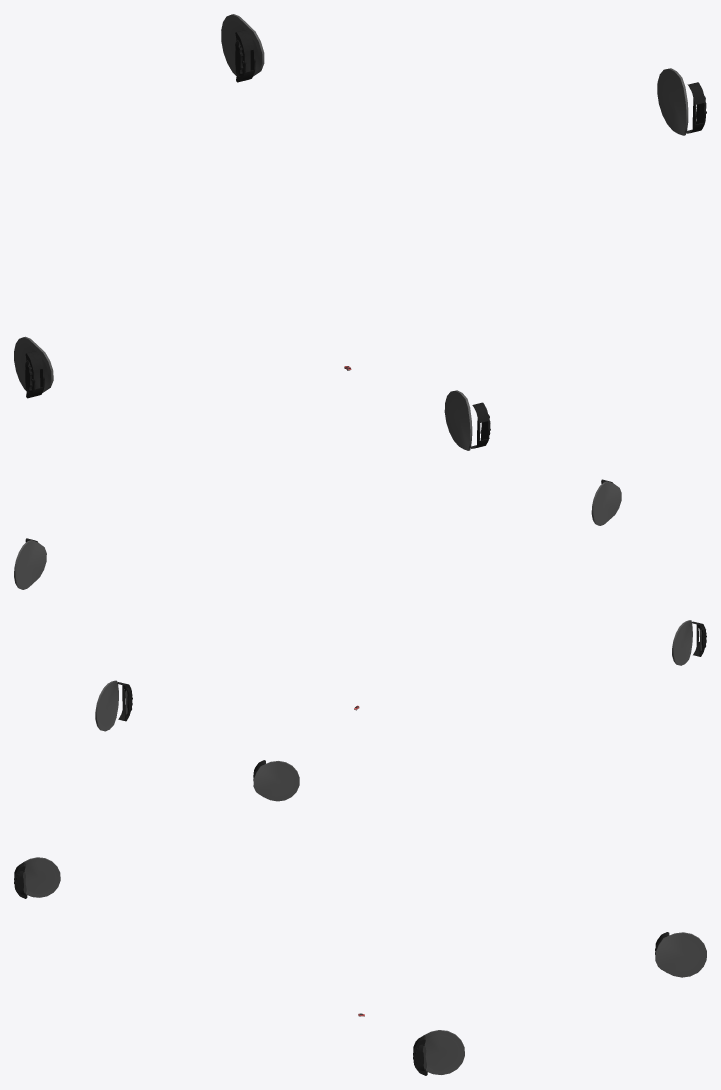
Rendered from traffic_crossover.glb.
3 renders of one model, top to bottom at view 1: azimuth 30°, elevation 25°; view 2: azimuth 150°, elevation 25°; view 3: azimuth 270°, elevation 25°, orthographic. The views are drawn at different scales.
Visible parts, largest first — view 1: Caliper_FR, Caliper_FL, Caliper_RR, Caliper_RL; view 2: Caliper_FL, Caliper_FR, Caliper_RL, Caliper_RR; view 3: Caliper_FL, Caliper_FR, Caliper_RR, Caliper_RL.
Boxes of the visible parts, x1,y1,x2,y2 form: Caliper_FR: [657, 68, 706, 135]; Caliper_FL: [221, 14, 264, 82]; Caliper_RR: [444, 390, 490, 450]; Caliper_RL: [14, 336, 53, 398]; Caliper_FL: [95, 680, 132, 731]; Caliper_FR: [14, 538, 46, 589]; Caliper_RL: [672, 620, 706, 665]; Caliper_RR: [591, 479, 621, 525]; Caliper_FL: [655, 932, 706, 977]; Caliper_FR: [413, 1030, 464, 1075]; Caliper_RR: [14, 857, 60, 898]; Caliper_RL: [253, 760, 299, 801].
Bounding box in the file's own units: 441 × 89.38 × 458.
Materials: 19 (4 with a texture image).
